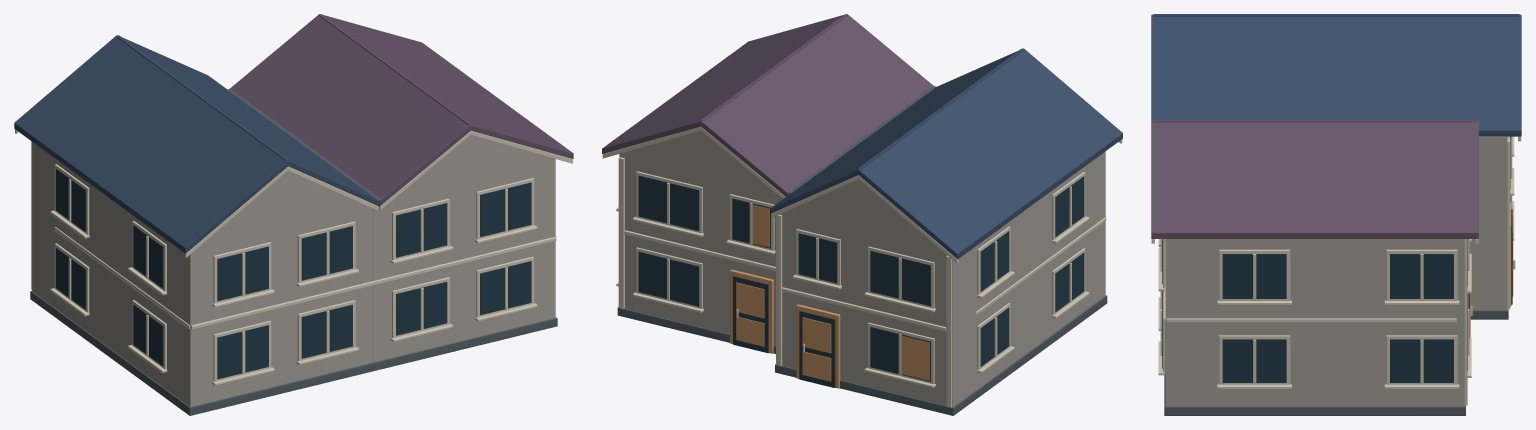
Rendered from d02_house_family_02.glb.
The picture shows the model from 3 angles, left to right: view 1: azimuth 30°, elevation 25°; view 2: azimuth 150°, elevation 25°; view 3: azimuth 270°, elevation 25°; orthographic projection. The views are drawn at different scales.
Parts seen in each view (by area): view 1: D02HouseFamily02_Mesh; view 2: D02HouseFamily02_Mesh; view 3: D02HouseFamily02_Mesh.
Boxes of the visible parts, x1,y1,x2,y2 form: D02HouseFamily02_Mesh: (14,14,573,415); D02HouseFamily02_Mesh: (602,14,1122,415); D02HouseFamily02_Mesh: (1151,14,1521,415).
Size of the model in its own units: 13.6 by 7.95 by 10.4.
